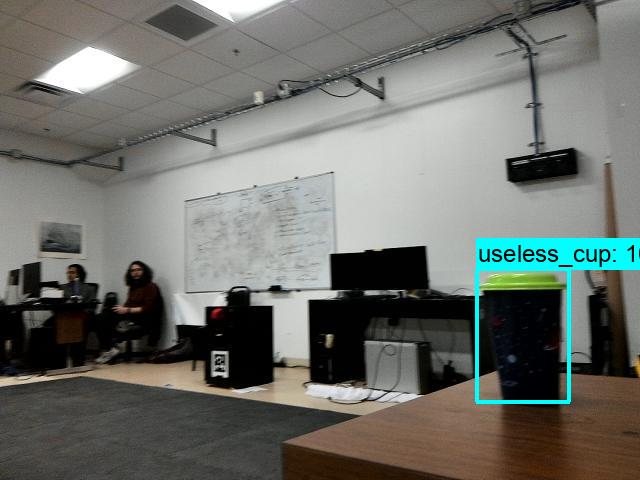useless_cup: (479, 269, 571, 399)
